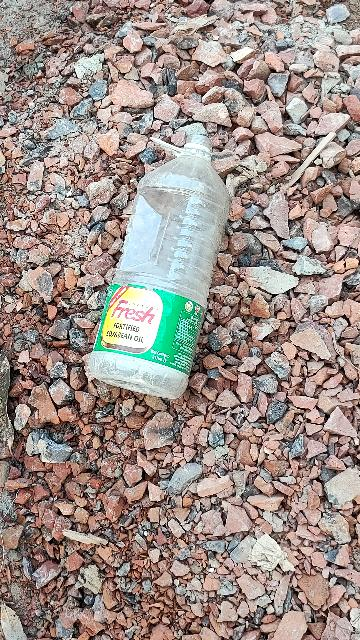bottle: (80, 125, 235, 400)
